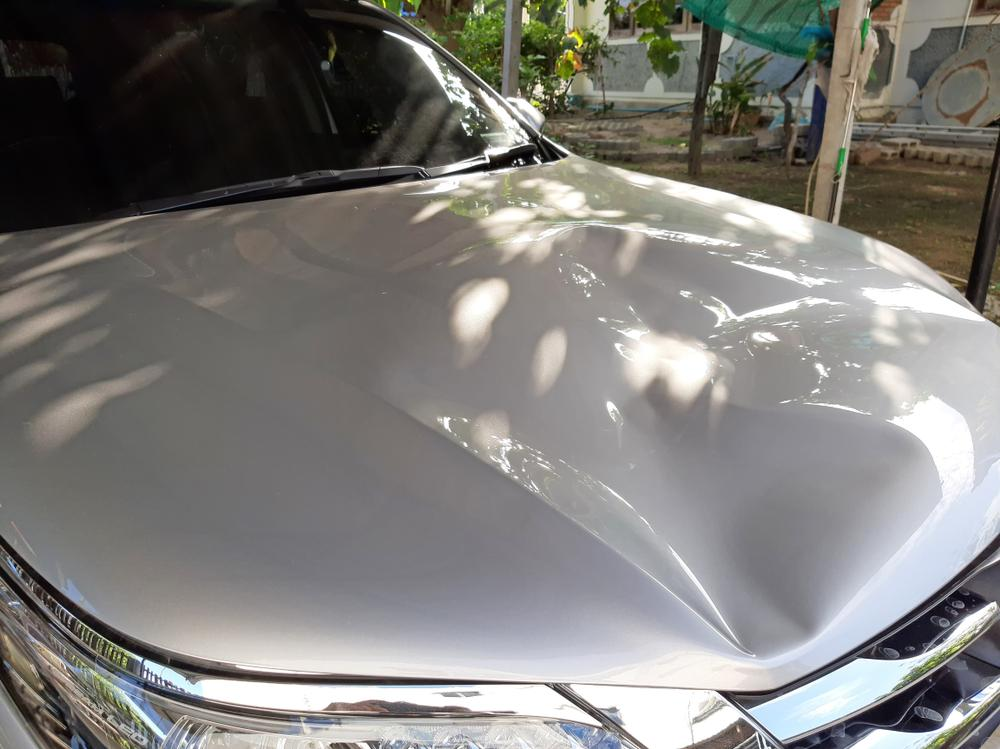dent: (624, 381, 936, 658), (558, 224, 826, 369)
